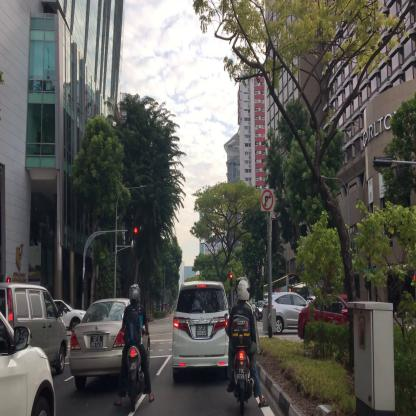red_traffic_light: (127, 226, 139, 234), (230, 273, 232, 286)
